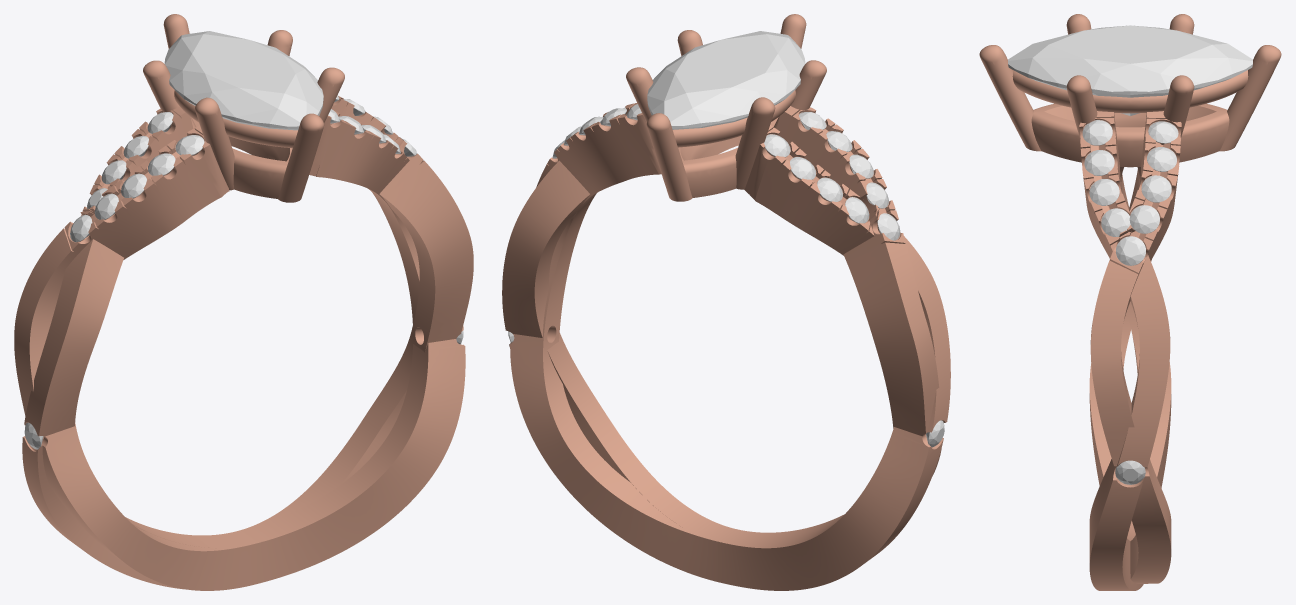
The model's file is diamond-marquise-rosegold-6prong-twist-sidestones.glb.
3 views of the same model, side by side, from view 1: azimuth 30°, elevation 25°; view 2: azimuth 150°, elevation 25°; view 3: azimuth 270°, elevation 25° (orthographic).
Parts seen in each view (by area): view 1: metal.001, stone; view 2: metal.001, stone; view 3: metal.001, stone, Twist diamonds.015, Twist diamonds.016, Twist diamonds.017, Twist diamonds.012, Twist diamonds.011, Twist diamonds.013, Twist diamonds.014, Twist diamonds.018, Twist diamonds.010, Twist diamonds.019.
Part boxes in pixels (left/top/right/bottom): metal.001: left=14, top=14, right=473, bottom=590; stone: left=164, top=31, right=323, bottom=130; metal.001: left=502, top=14, right=950, bottom=590; stone: left=647, top=31, right=805, bottom=129; metal.001: left=979, top=14, right=1281, bottom=590; stone: left=1008, top=25, right=1252, bottom=115; Twist diamonds.015: left=1116, top=236, right=1145, bottom=265; Twist diamonds.016: left=1129, top=205, right=1159, bottom=233; Twist diamonds.017: left=1141, top=175, right=1171, bottom=202; Twist diamonds.012: left=1089, top=179, right=1119, bottom=205; Twist diamonds.011: left=1101, top=208, right=1130, bottom=236; Twist diamonds.013: left=1084, top=150, right=1114, bottom=175; Twist diamonds.014: left=1082, top=120, right=1112, bottom=145; Twist diamonds.018: left=1147, top=147, right=1176, bottom=171; Twist diamonds.010: left=1115, top=460, right=1145, bottom=484; Twist diamonds.019: left=1148, top=121, right=1178, bottom=143.
Bounding box in the file's own units: 19.97 × 22.73 × 11.96.
